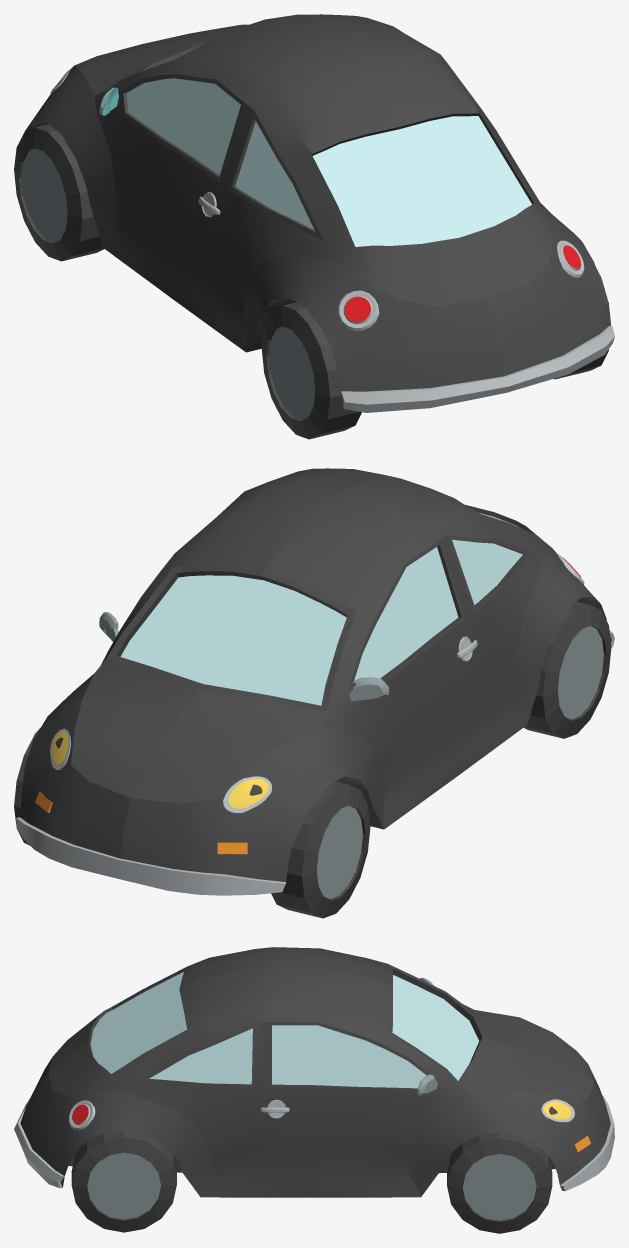
Rendered from SM_Car.fbx.
3 renders of one model, top to bottom at view 1: azimuth 30°, elevation 25°; view 2: azimuth 150°, elevation 25°; view 3: azimuth 270°, elevation 25°, orthographic. The views are drawn at different scales.
Visible parts, largest first — view 1: Plane.001; view 2: Plane.001; view 3: Plane.001.
Part boxes in pixels (box(x1,y1,x2,y2)): Plane.001: box(14, 14, 614, 439); Plane.001: box(14, 468, 614, 918); Plane.001: box(14, 947, 614, 1233).
Size of the model in its own units: 323 by 288 by 735.
